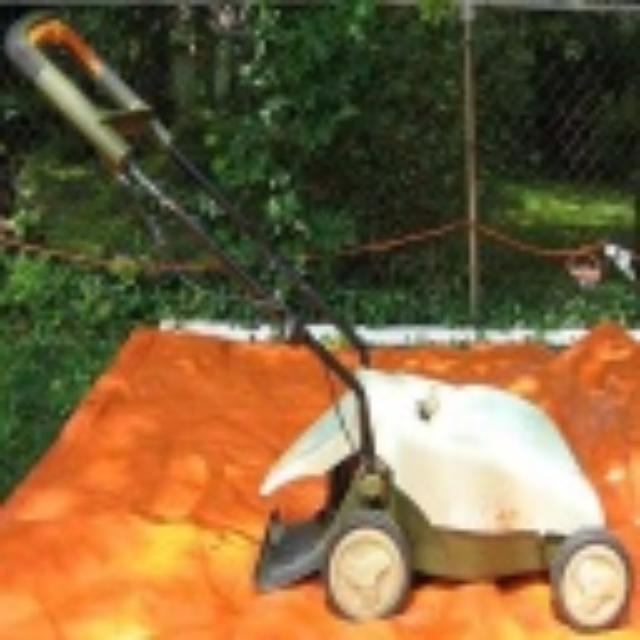Rotary-Mower: (1, 10, 636, 630)
